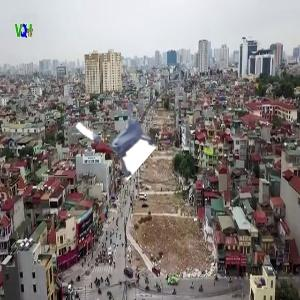drone: (82, 86, 164, 168)
